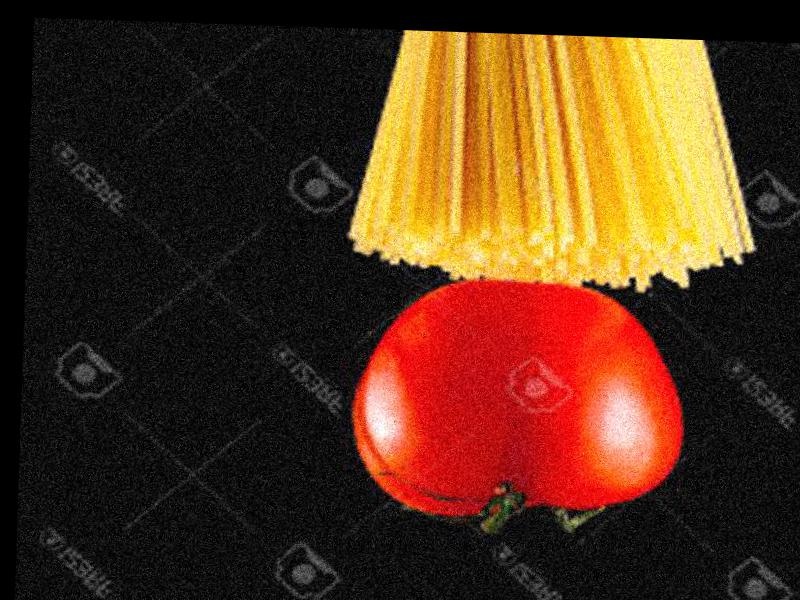Tomato: (355, 274, 686, 524)
